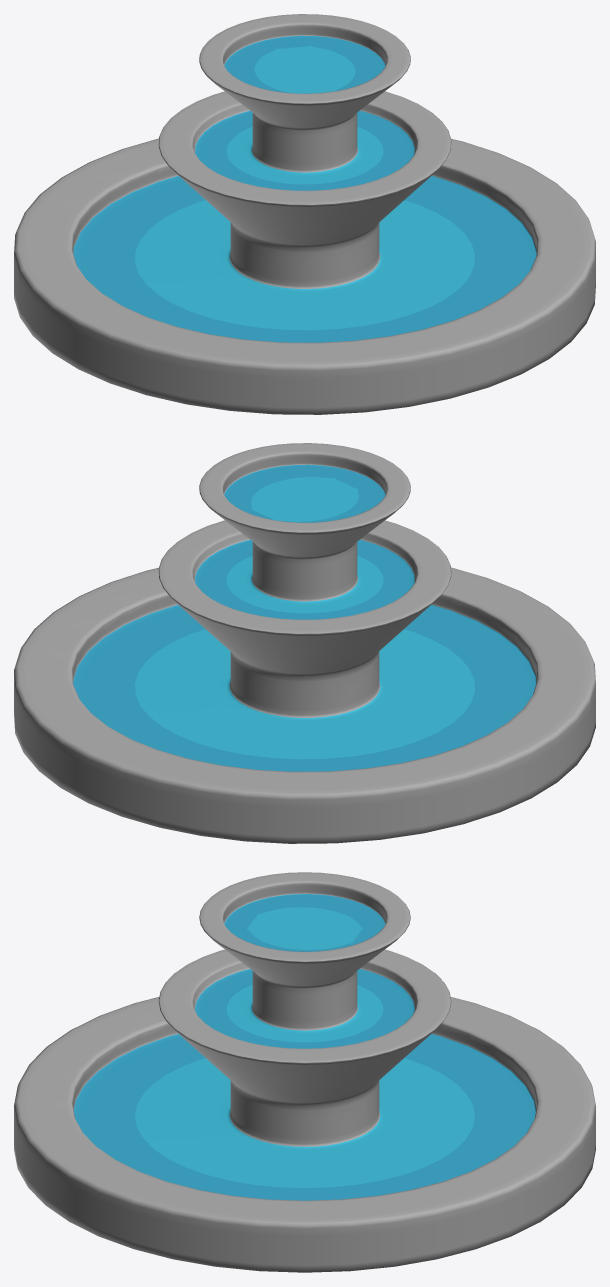
File: Fountain 1.fbx
3 renders of one model, top to bottom at view 1: azimuth 30°, elevation 25°; view 2: azimuth 150°, elevation 25°; view 3: azimuth 270°, elevation 25°, orthographic.
Parts seen in each view (by area): view 1: Fountain_Geo; view 2: Fountain_Geo; view 3: Fountain_Geo.
Part boxes in pixels (x1,y1,x2,y2): Fountain_Geo: (14, 14, 595, 414); Fountain_Geo: (14, 443, 595, 843); Fountain_Geo: (14, 872, 595, 1272).
Bounding box in the file's own units: 6.88 × 3.09 × 6.88.
